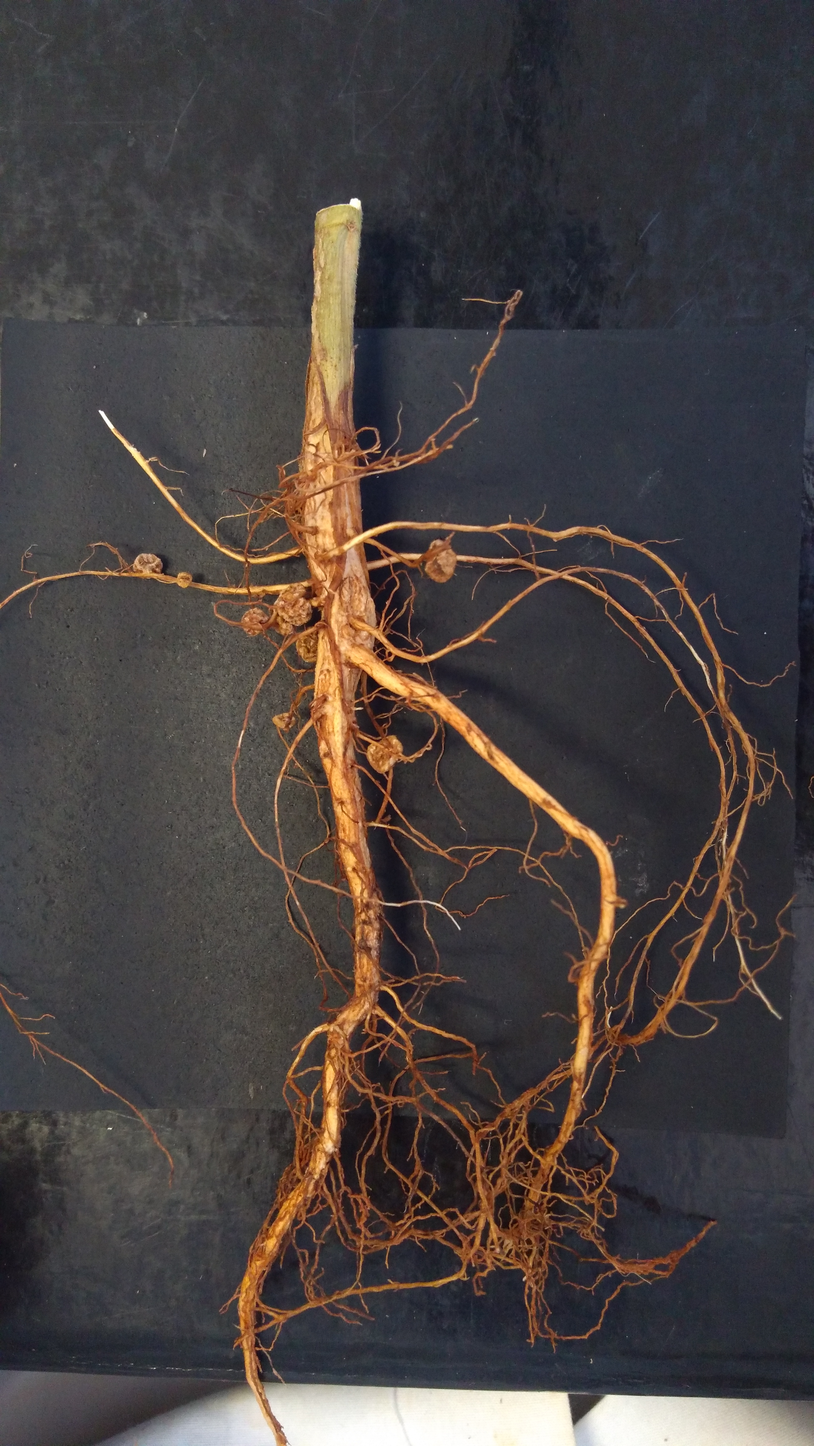nodule: (272, 583, 313, 627), (365, 733, 404, 775), (424, 538, 457, 583), (240, 607, 269, 637), (132, 552, 163, 580), (295, 630, 319, 663), (274, 614, 297, 636), (272, 712, 296, 729), (176, 572, 193, 589)
